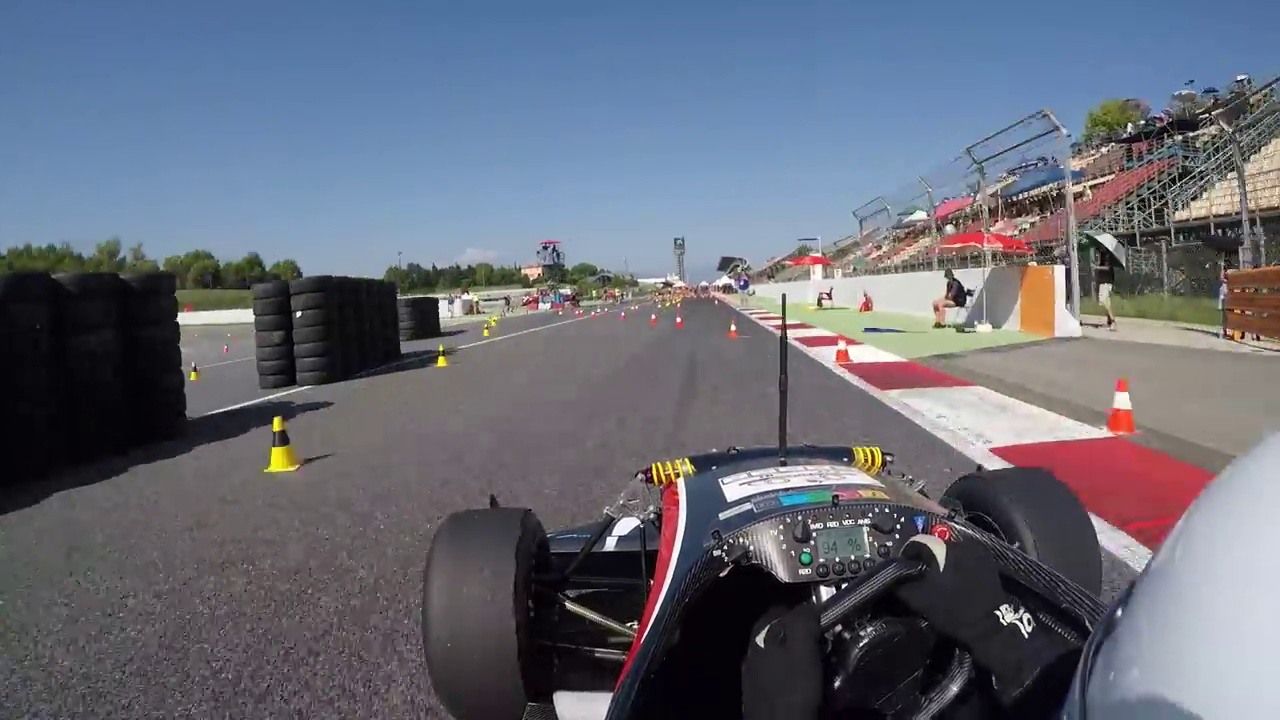Cone: (1103, 377, 1144, 434), (265, 414, 300, 473)
